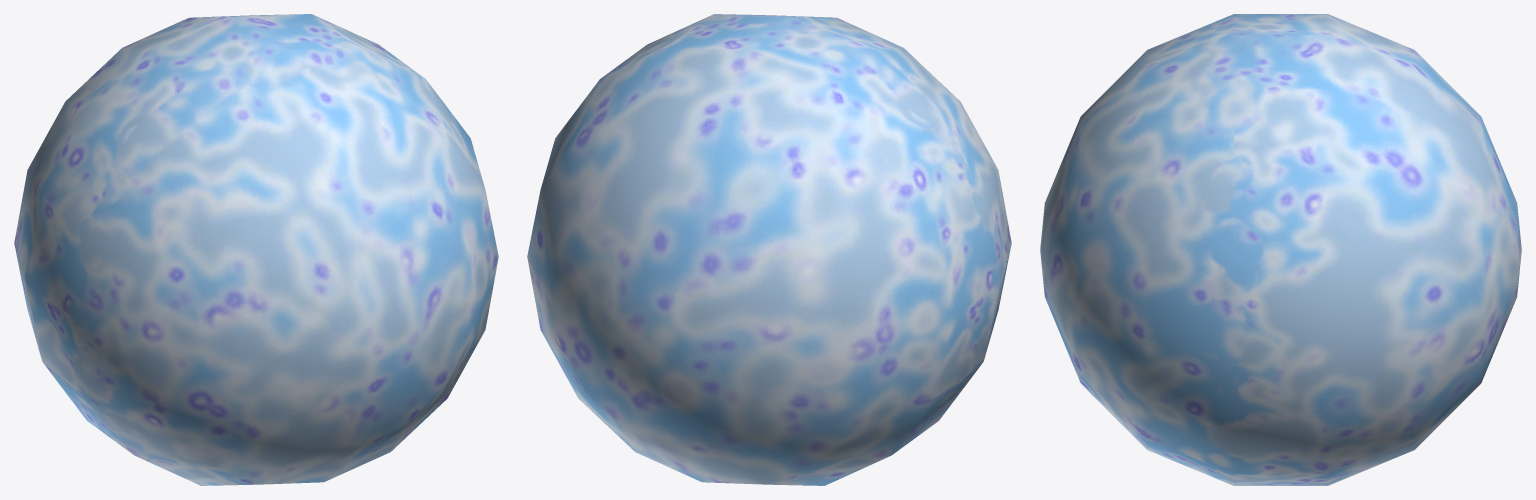
File: EnergyOrb.dae
3 views of the same model, side by side, from view 1: azimuth 30°, elevation 25°; view 2: azimuth 150°, elevation 25°; view 3: azimuth 270°, elevation 25° (orthographic).
Parts seen in each view (by area): view 1: pSphere1; view 2: pSphere1; view 3: pSphere1.
Boxes of the visible parts, x1=… form: pSphere1: x1=14, y1=14, x2=498, y2=485; pSphere1: x1=527, y1=14, x2=1011, y2=485; pSphere1: x1=1040, y1=14, x2=1521, y2=485.
Bounding box in the file's own units: 0.1921 × 0.1921 × 0.1958.
Materials: 1 (1 with a texture image).
